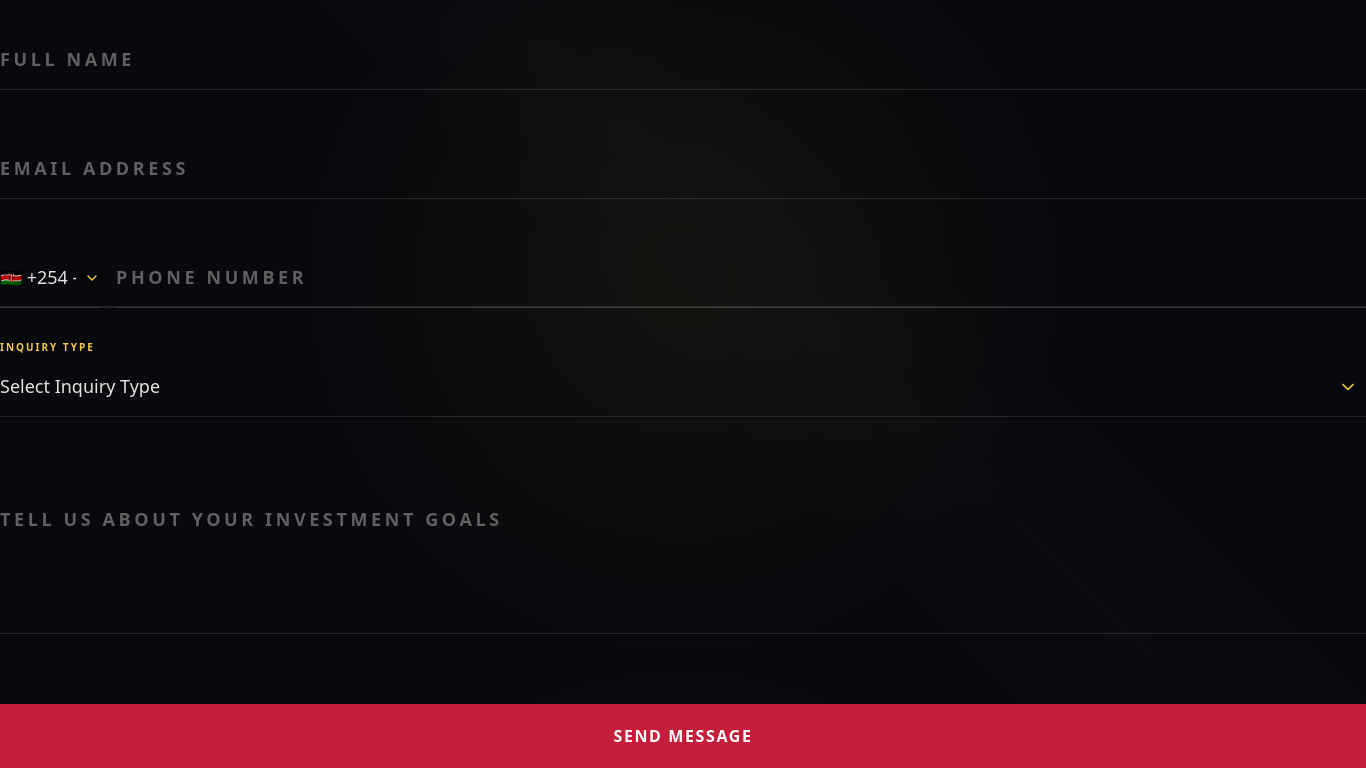
Scenario: ContactForm Component › shows validation errors for empty fields
(page scrolled)
Click the button "Send Message".
click(683, 736)  # box [0,704,1365,767]
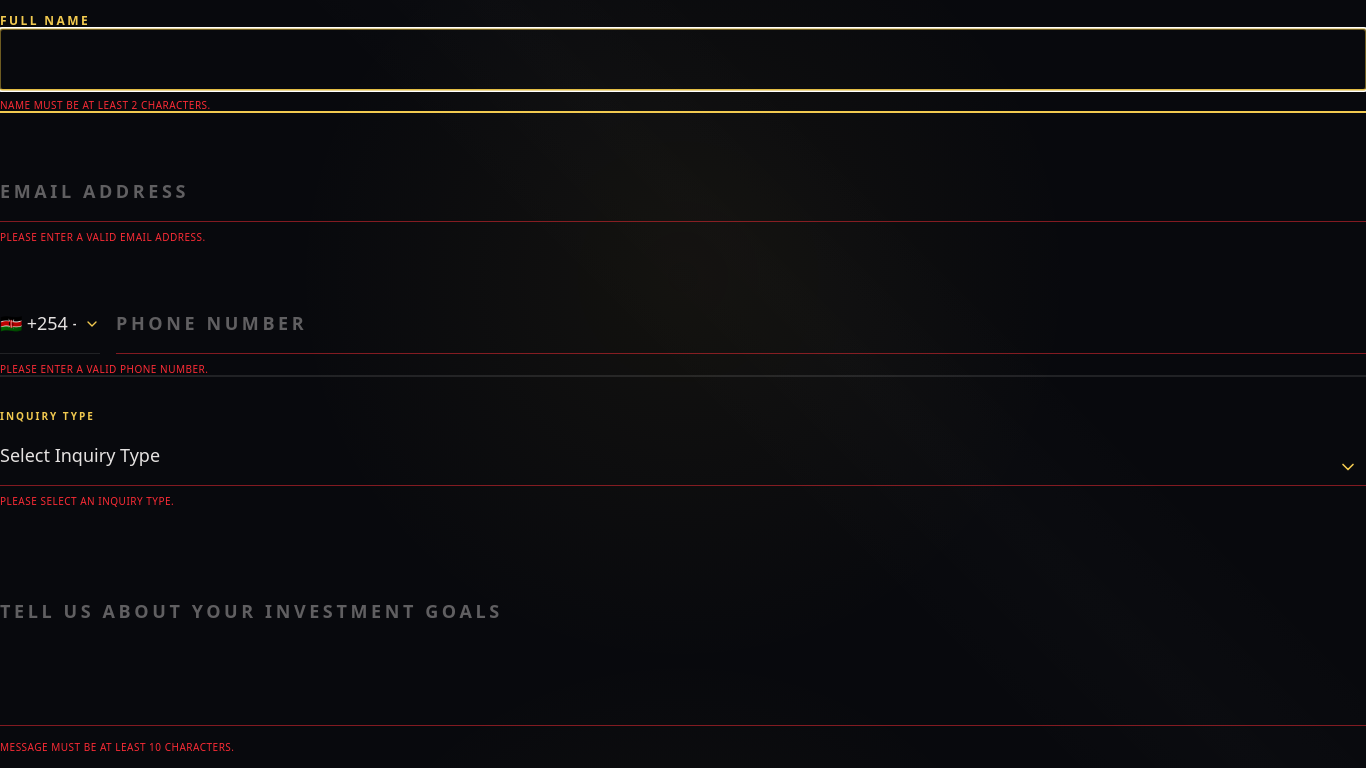
Expected: the text "Name must be at least 2 characters." is shown, [0,98,211,112]
Expected: the text "Please enter a valid email address." is shown, [0,230,206,244]
